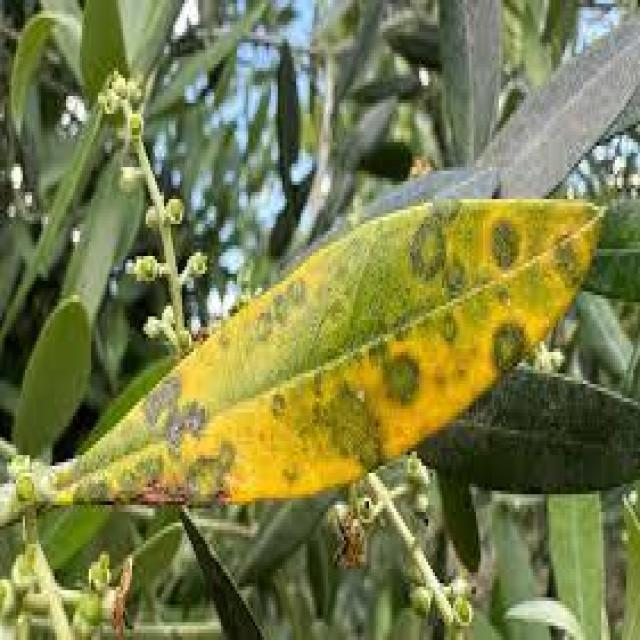OlivePeacockSpot: (75, 199, 601, 501)
